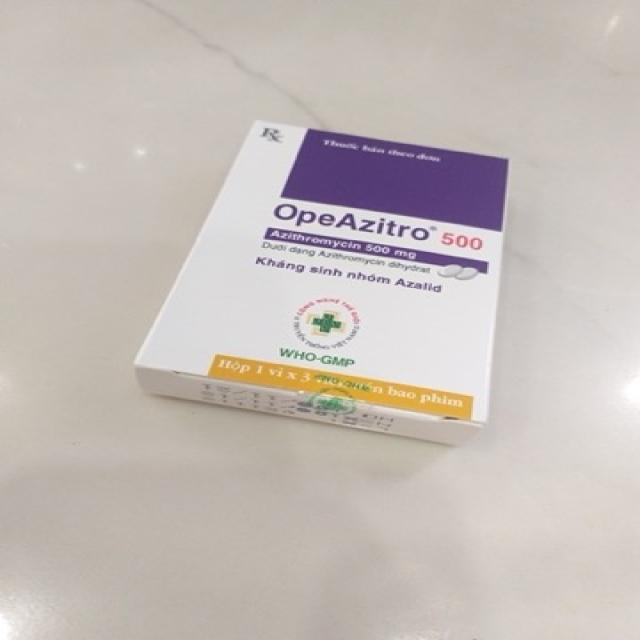PaperCardboard: (129, 125, 520, 447)
